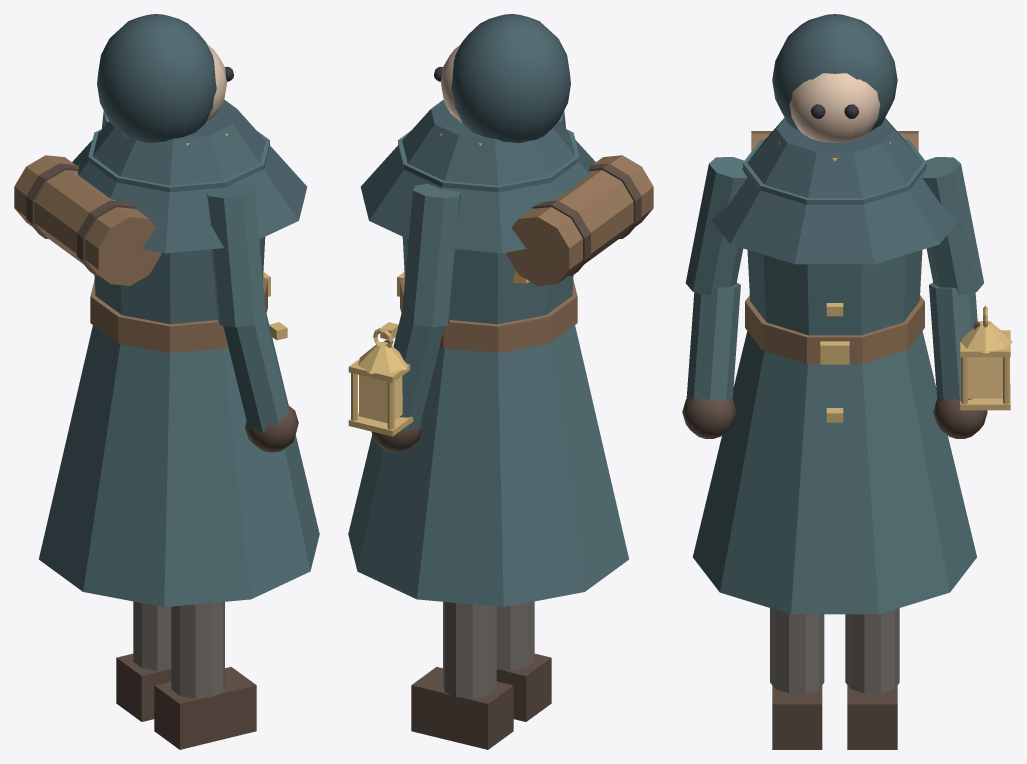
Rendered from SM_LanternKeeper.fbx.
The picture shows the model from 3 angles, left to right: view 1: azimuth 30°, elevation 25°; view 2: azimuth 150°, elevation 25°; view 3: azimuth 270°, elevation 25°; orthographic projection.
Visible parts, largest first — view 1: SM_LanternKeeper; view 2: SM_LanternKeeper; view 3: SM_LanternKeeper.
Part boxes in pixels (x1,y1,x2,y2): SM_LanternKeeper: (14, 14, 319, 749); SM_LanternKeeper: (348, 14, 653, 749); SM_LanternKeeper: (682, 14, 1012, 749).
Bounding box in the file's own units: 0.6637 × 1.84 × 0.79.
